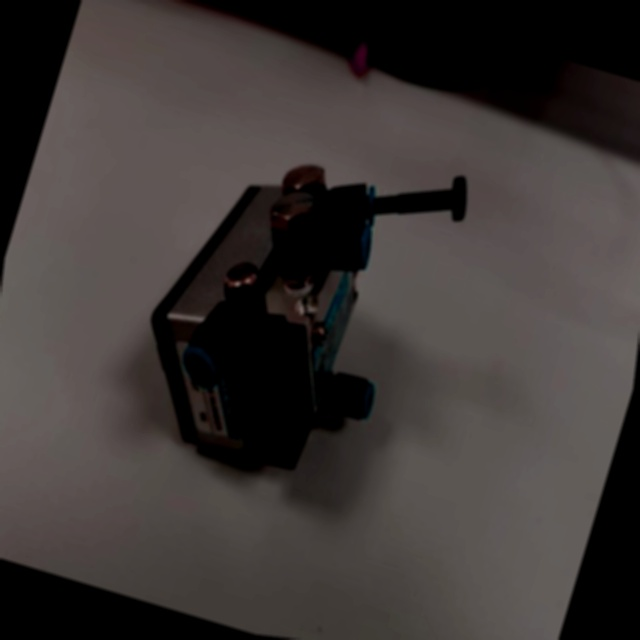5by2 DCV: (76, 82, 537, 552)
